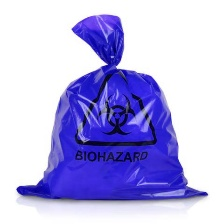plastic_bag: (8, 9, 212, 201)
